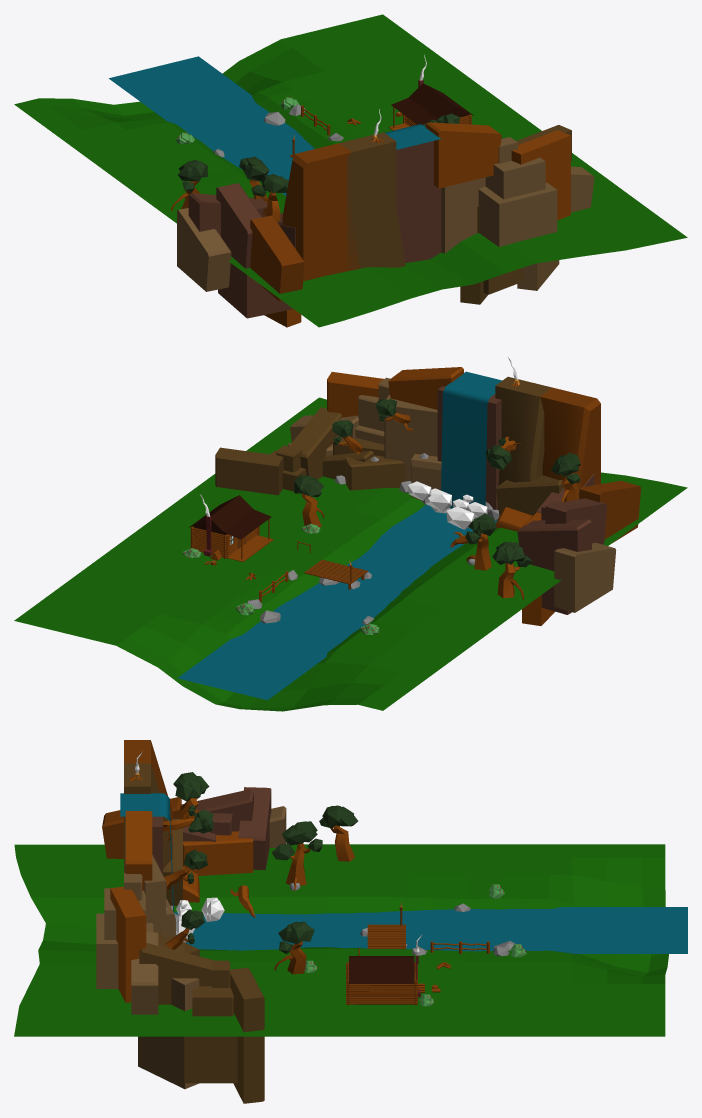
The model's file is Low Poly Scenario.fbx.
The picture shows the model from 3 angles, top to bottom: view 1: azimuth 30°, elevation 25°; view 2: azimuth 150°, elevation 25°; view 3: azimuth 270°, elevation 25°; orthographic projection. The views are drawn at different scales.
Visible parts, largest first — view 1: Escenario, pPlane5, pCube62, pCube45, pCube51, pCube1, pCube59, pCube73, pCube72, pCube52, pCube48, pCube74 (+8 smaller); view 2: Escenario, pPlane5, pPlane2, pCube62, pCube45, pCube73, pCube48, pCube61, pCube71, pCube72, pCube59, pCube55 (+15 smaller); view 3: Escenario, pPlane5, pCube57, pCube61, pCube56, pCube52, pCube51, pCube55, pCube69, pCube59, Madera_Techo38, pCube71 (+11 smaller).
Boxes of the visible parts, x1,y1,x2,y2 form: Escenario: (14,14,687,327); pPlane5: (109,56,314,195); pCube62: (282,143,359,281); pCube45: (339,132,405,270); pCube51: (478,137,557,246); pCube1: (396,141,441,262); pCube59: (426,122,501,188); pCube73: (177,208,231,291); pCube72: (250,215,304,301); pCube52: (511,130,570,220); pCube48: (441,177,485,253); pCube74: (216,183,261,268); Escenario: (14,397,687,711); pPlane5: (177,504,497,700); pPlane2: (441,371,502,510); pCube62: (540,387,600,489); pCube45: (495,376,551,509); pCube73: (554,543,616,612); pCube48: (384,395,437,481); pCube61: (215,447,283,495); pCube71: (517,519,591,570); pCube72: (579,480,640,542); pCube59: (388,367,463,409); pCube55: (289,407,341,479); Escenario: (14,844,668,1036); pPlane5: (174,907,687,953); pCube57: (184,960,237,1083); pCube61: (230,967,264,1103); pCube56: (138,978,199,1089); pCube52: (110,886,146,1002); pCube51: (96,873,153,988); pCube55: (139,943,214,1004); pCube69: (183,831,253,875); pCube59: (125,811,152,890); Madera_Techo38: (349,957,414,983); pCube71: (238,787,271,870).
Bounding box in the file's own units: 46.95 × 25.29 × 66.13.
